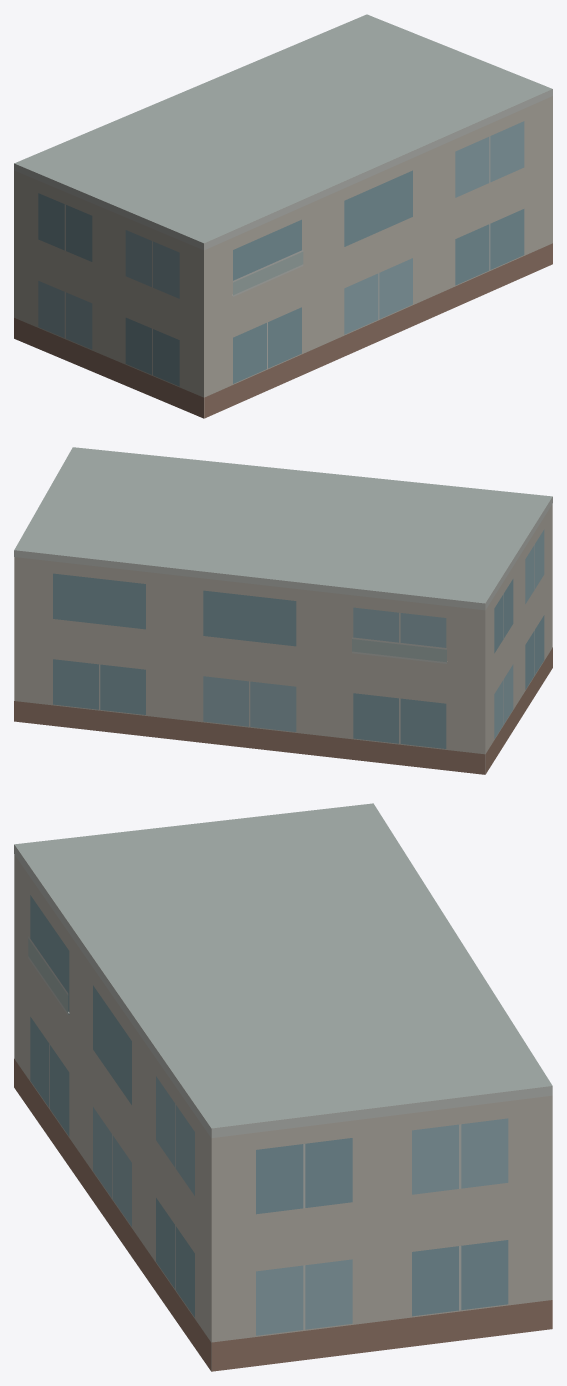
Rendered from survey-upis-32662924.glb.
3 views of the same model, one above another, from view 1: azimuth 30°, elevation 25°; view 2: azimuth 150°, elevation 25°; view 3: azimuth 270°, elevation 25° (orthographic). The views are drawn at different scales.
Visible parts, largest first — view 1: survey-upis-32662924.tmp; view 2: survey-upis-32662924.tmp; view 3: survey-upis-32662924.tmp.
Boxes of the visible parts, box(x1,y1,x2,y2) form: survey-upis-32662924.tmp: box(14, 14, 552, 418); survey-upis-32662924.tmp: box(14, 447, 552, 774); survey-upis-32662924.tmp: box(14, 803, 552, 1371).
Bounding box in the file's own units: 17.51 × 6.1 × 12.26.
